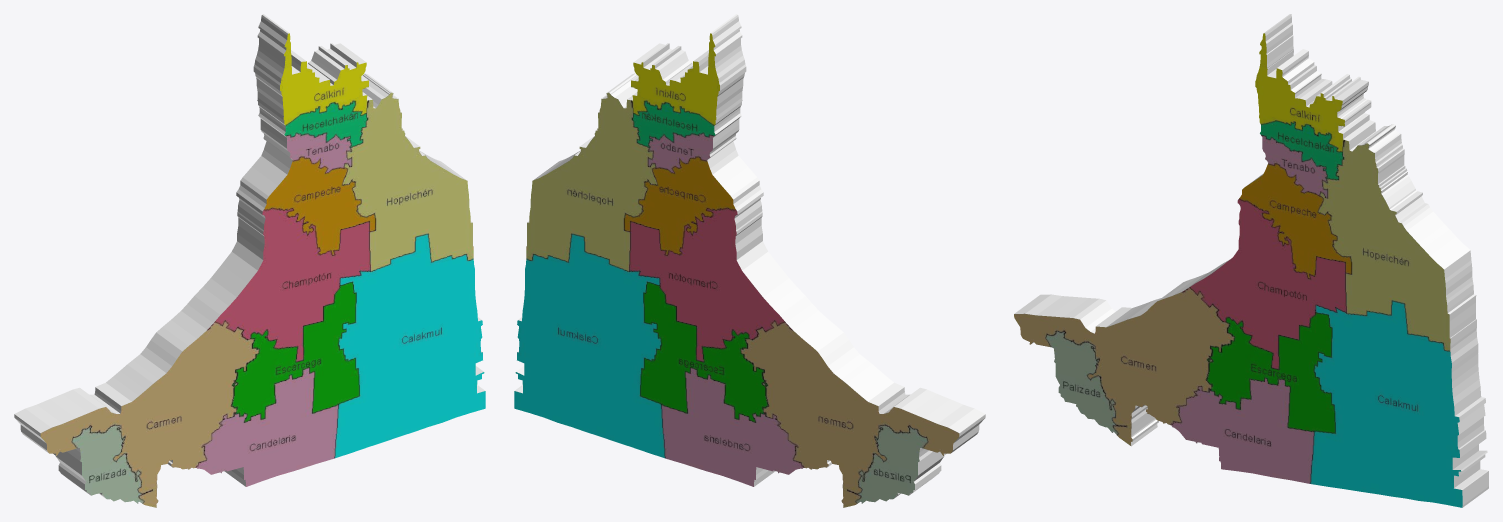
The model's file is campeche.glb.
3 renders of one model, left to right at view 1: azimuth 30°, elevation 25°; view 2: azimuth 150°, elevation 25°; view 3: azimuth 330°, elevation 25°, orthographic.
Parts seen in each view (by area): view 1: Plano; view 2: Plano; view 3: Plano.
Part boxes in pixels (left/top/right/bottom): Plano: left=14, top=14, right=485, bottom=507; Plano: left=514, top=14, right=985, bottom=507; Plano: left=1014, top=14, right=1488, bottom=507.
Bounding box in the file's own units: 1.01 × 0.9572 × 0.1026.
Materials: 1 (1 with a texture image).
